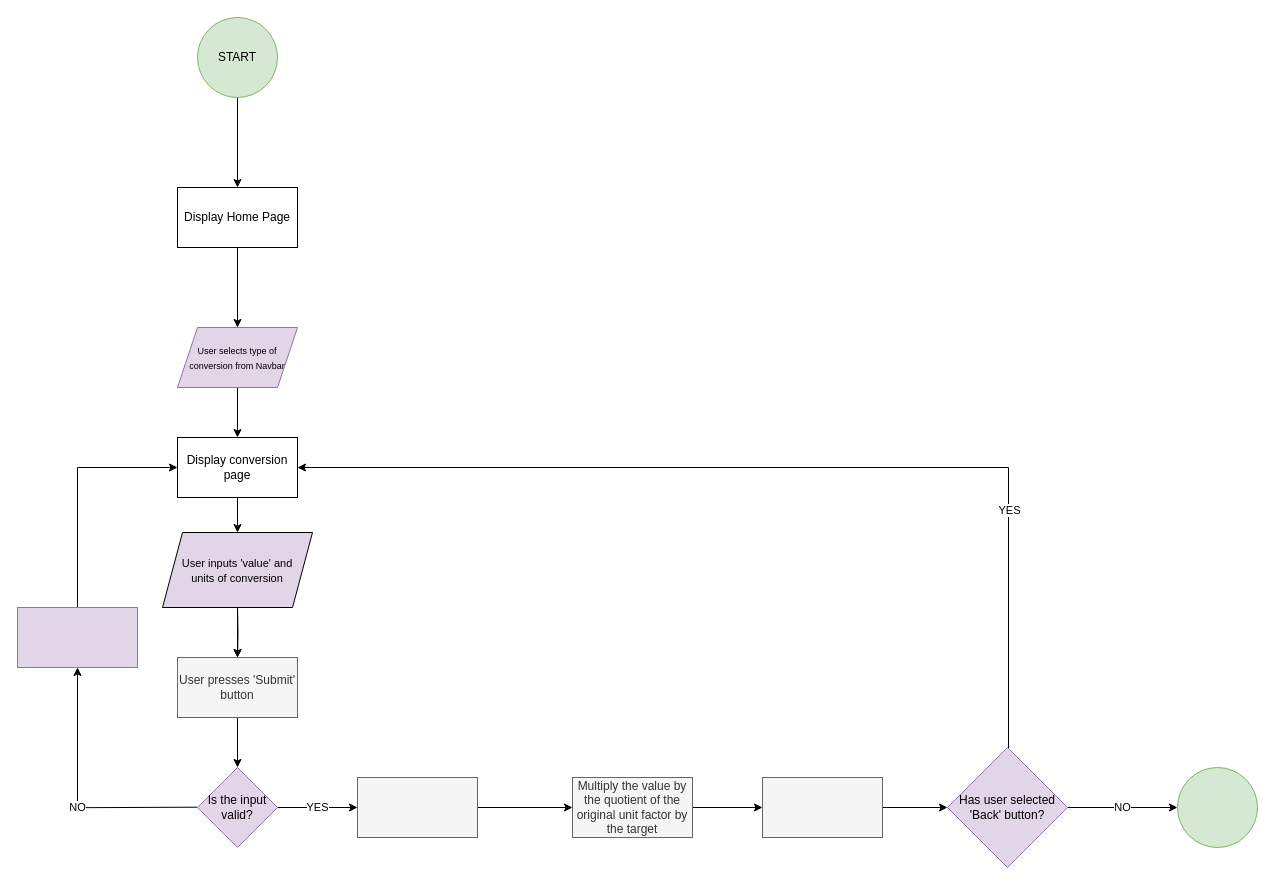
The diagram is 1275 pixels wide and 885 high, and some of its shapes have lost their labels. The box of each missing label's shape, as (x1, y1, x2, y2) in pixels:
Display Error Message: (16, 606, 138, 668)
Display the result page: (762, 776, 882, 838)
END: (1176, 766, 1258, 848)
Find conversion factors: (356, 776, 478, 838)
